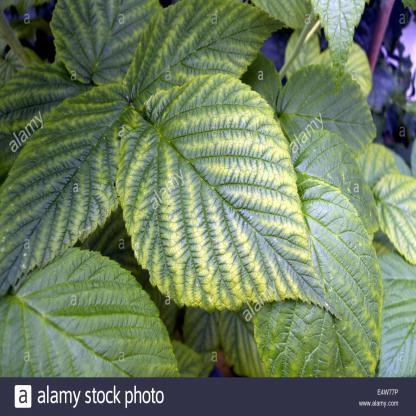Raspberry leaf: (118, 80, 330, 308)
